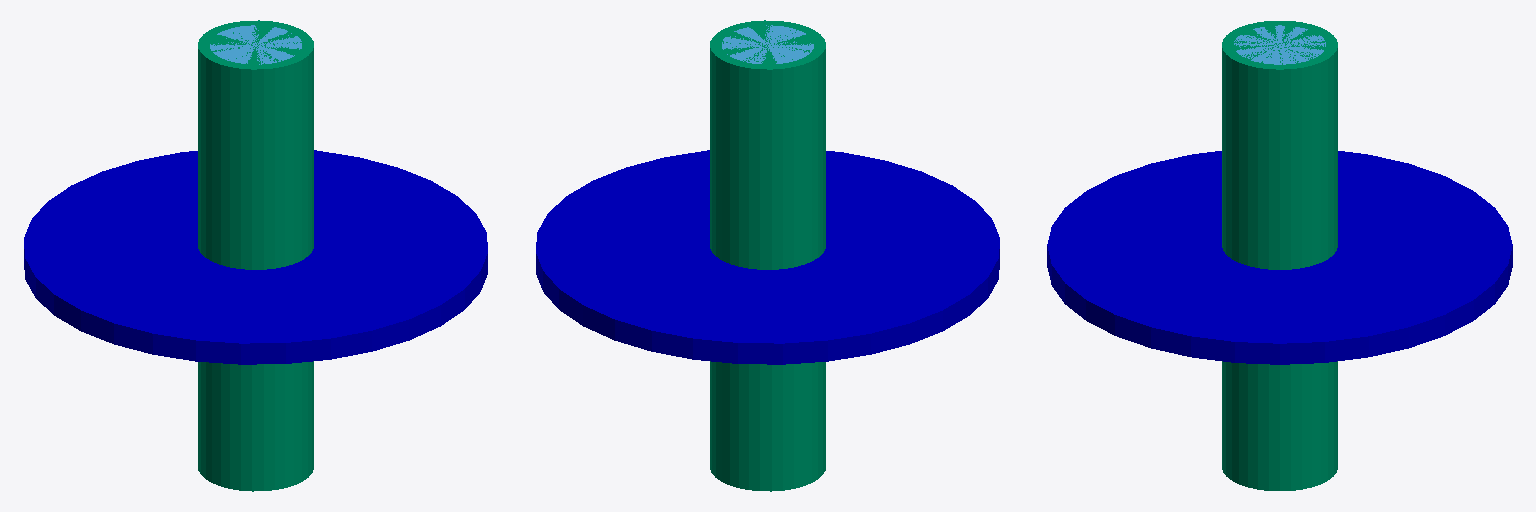
robot.urdf — pan_tilt:
<?xml version="1.0"?>
<robot name="pan_tilt">


<!-- baza robotului -->

	<material name="blue">
		<color rgba="0 0 0.8 1"/>
  </material>

  <material name="white">
    <color rgba="1 1 1 1"/>
  </material>



	<link name="base_link">
		
		<!-- baza robotului VIZUAL-->
    <visual>

			<!-- baza robotului GEOMETRIE-->
			<geometry>
				<cylinder length="0.02" radius="0.2"/>
      </geometry>

			<material name="blue"/>
    </visual>
  
	</link>


	<link name="pan_link">
		
		<!-- baza robotului VIZUAL-->
    <visual>

			<!-- baza robotului GEOMETRIE-->
			<geometry>
				<cylinder length="0.4" radius="0.04"/>
      </geometry>
    </visual>
  
	</link>


	<link name="tilt_link">
		
		<!-- baza robotului VIZUAL-->
    <visual>

			<!-- baza robotului GEOMETRIE-->
			<geometry>
				<cylinder length="0.4" radius="0.05"/>
      </geometry>
    </visual>
  
	</link>


<!--CUPLE: baza robotului & cilindru -->
	<joint name="pan_joint" type="fixed">
    <parent link="base_link"/>
    <child link="pan_link"/>
	</joint>

	<joint name="tilt_joint" type="fixed">
    <parent link="pan_link"/>
    <child link="tilt_link"/>
	</joint>


</robot>

--- What the picture shows (computed from the rendered views, not written in the file) ---
The picture shows the robot from 3 angles, left to right: view 1: azimuth 30°, elevation 25°; view 2: azimuth 150°, elevation 25°; view 3: azimuth 270°, elevation 25°; orthographic projection.
Model pan_tilt with 3 links and 2 joints (2 fixed), rooted at base_link, posed every joint at zero.
Links seen in each view (by area): view 1: base_link, tilt_link, pan_link; view 2: base_link, tilt_link, pan_link; view 3: base_link, tilt_link, pan_link.
Link boxes in pixels (x1,y1,x2,y2): base_link: (24,150,487,364); tilt_link: (198,20,313,491); pan_link: (210,25,301,64); base_link: (536,150,999,364); tilt_link: (710,20,825,491); pan_link: (722,25,813,63); base_link: (1047,151,1512,364); tilt_link: (1222,21,1337,490); pan_link: (1234,25,1325,64).
Size in the robot's own frame: 0.4 by 0.4 by 0.4 metres.
Geometry: primitives only (box / cylinder / sphere), no mesh files.